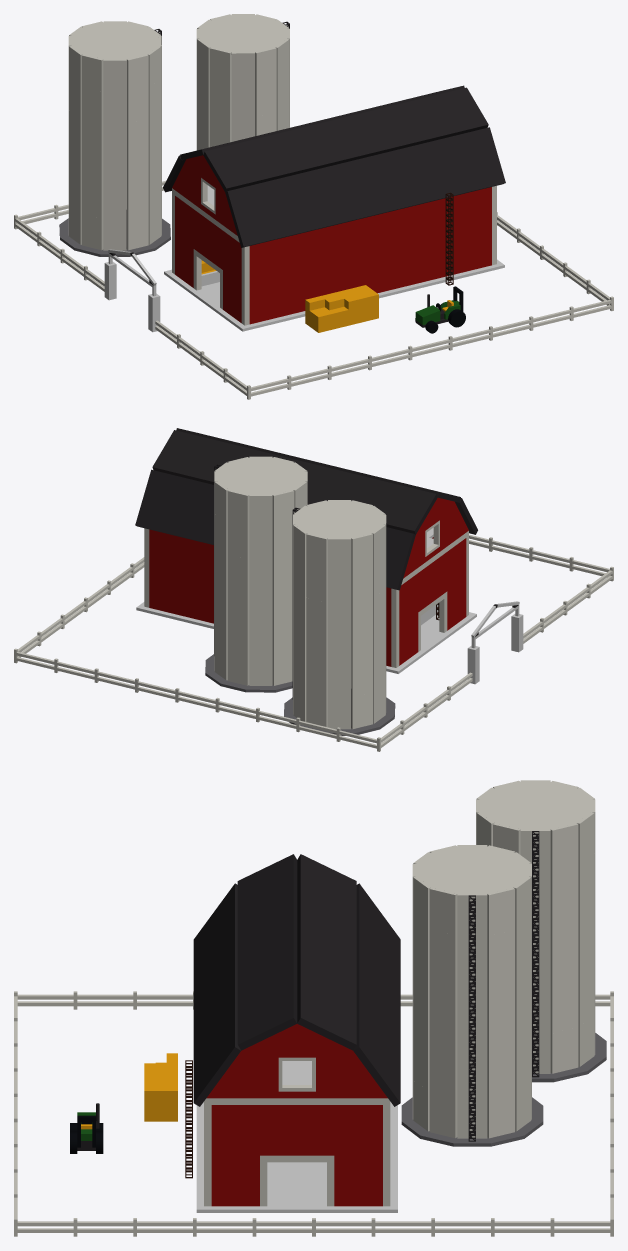
Rendered from map_7.obj.
3 views of the same model, one above another, from view 1: azimuth 30°, elevation 25°; view 2: azimuth 150°, elevation 25°; view 3: azimuth 270°, elevation 25° (orthographic). The views are drawn at different scales.
Visible parts, largest first — view 1: Part356, Part361, Part147, Part240, Part301, Part272, Part217, Part325, Part177, Part214, Part330, Part178 (+68 smaller); view 2: Part158, Part109, Part104, Part175, Part265, Part96, Part118, Part135, Part129, Part141, Part156, Part145 (+73 smaller); view 3: Part117, Part154, Part151, Part164, Part105, Part113, Part108, Part111, Silowall66, Silowall141, Silowall138, Silowall6 (+96 smaller).
Boxes of the visible parts, x1,y1,x2,y2 form: Part356: (233,211,276,247); Part361: (225,183,268,219); Part147: (465,155,505,191); Part240: (367,179,407,215); Part301: (301,195,341,231); Part272: (334,187,374,223); Part217: (399,171,440,207); Part325: (268,203,308,239); Part177: (432,163,472,199); Part214: (391,143,432,178); Part330: (260,175,300,210); Part178: (424,135,464,170); Part158: (168,505,208,542); Part109: (135,497,175,533); Part104: (143,469,183,505); Part175: (176,477,213,513); Part265: (386,503,427,534); Part96: (152,447,196,477); Part118: (149,581,179,615); Part135: (149,555,179,588); Part129: (179,589,209,622); Part141: (179,562,209,595); Part156: (149,529,179,562); Part145: (179,537,209,569); Part117: (334,1138,382,1172); Part154: (334,1172,382,1206); Part151: (211,1138,259,1172); Part164: (211,1172,259,1206); Part105: (334,1105,382,1138); Part113: (211,1105,259,1138); Part108: (297,1105,334,1138); Part111: (260,1105,297,1138); Silowall66: (550,823,578,870); Silowall141: (429,887,457,935); Silowall138: (487,887,514,935); Silowall6: (550,1027,578,1073).
Bounding box in the file's own units: 146 × 73 × 161.
